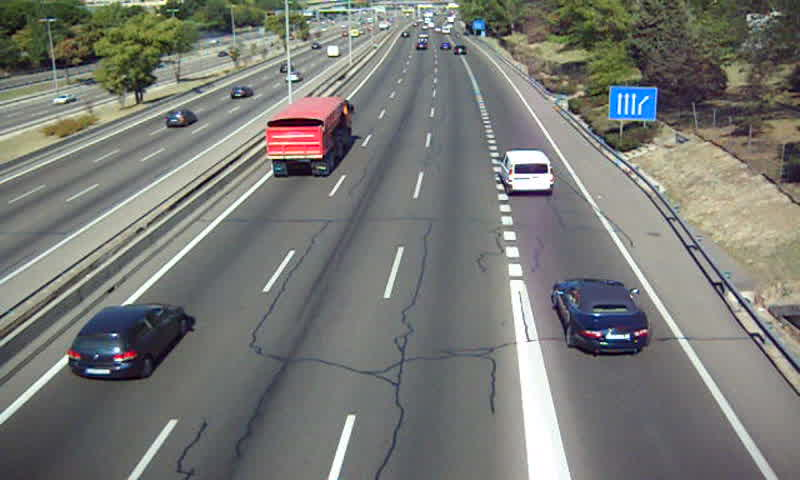car: (68, 304, 188, 380), (551, 280, 649, 352)
truck: (265, 95, 354, 175)
van: (499, 150, 554, 194)
